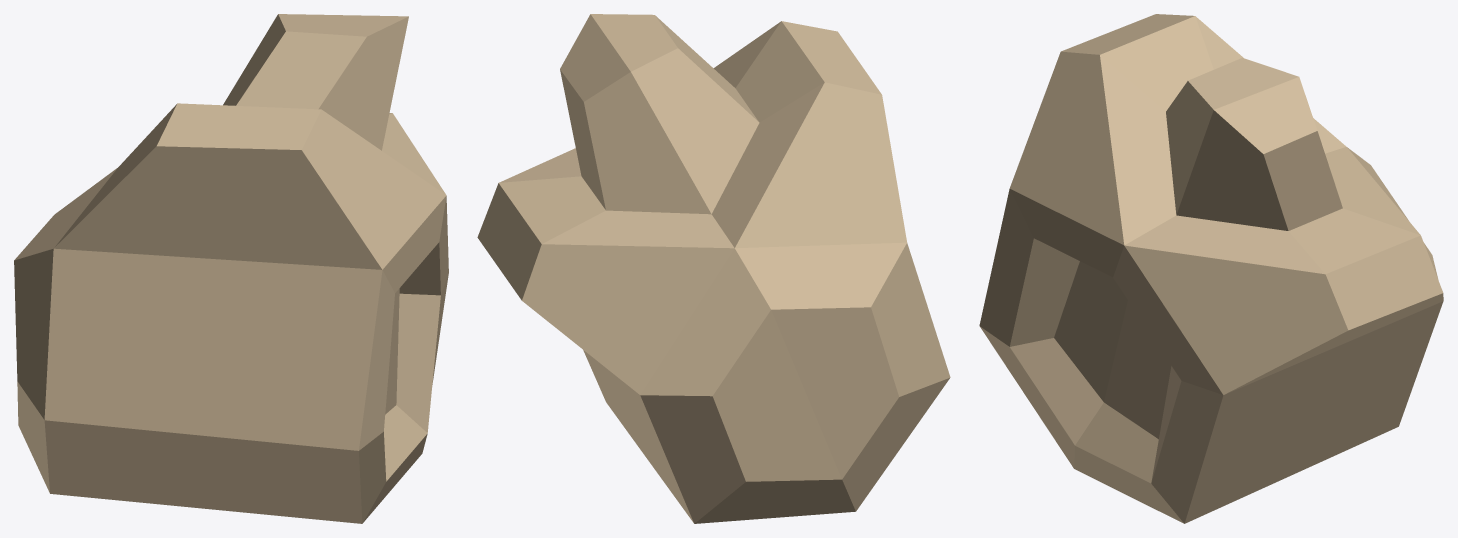
File: SM_Prop_Bone_02.fbx
3 renders of one model, left to right at view 1: azimuth 30°, elevation 25°; view 2: azimuth 150°, elevation 25°; view 3: azimuth 270°, elevation 25°, orthographic. The views are drawn at different scales.
Parts seen in each view (by area): view 1: SM_Prop_Bone_02; view 2: SM_Prop_Bone_02; view 3: SM_Prop_Bone_02.
Boxes of the visible parts, x1,y1,x2,y2 form: SM_Prop_Bone_02: (14,14,448,523); SM_Prop_Bone_02: (477,14,950,523); SM_Prop_Bone_02: (979,14,1443,523).
Bounding box in the file's own units: 11.9 × 11.44 × 11.51.
